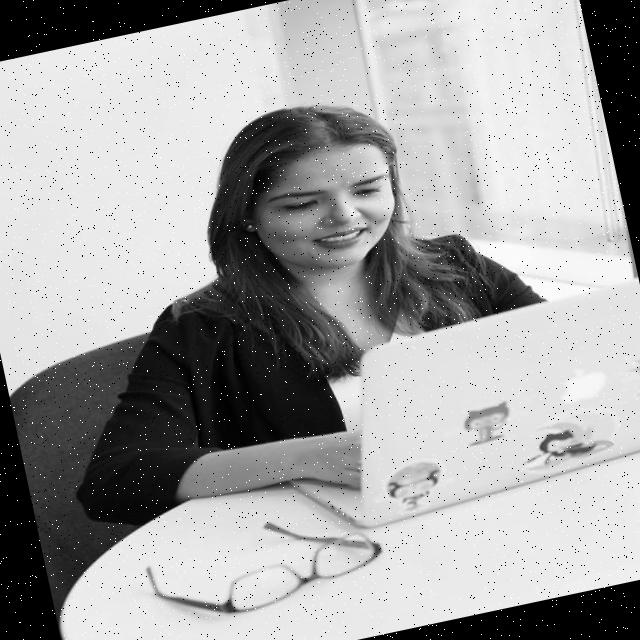Happiness: (240, 129, 420, 292)
